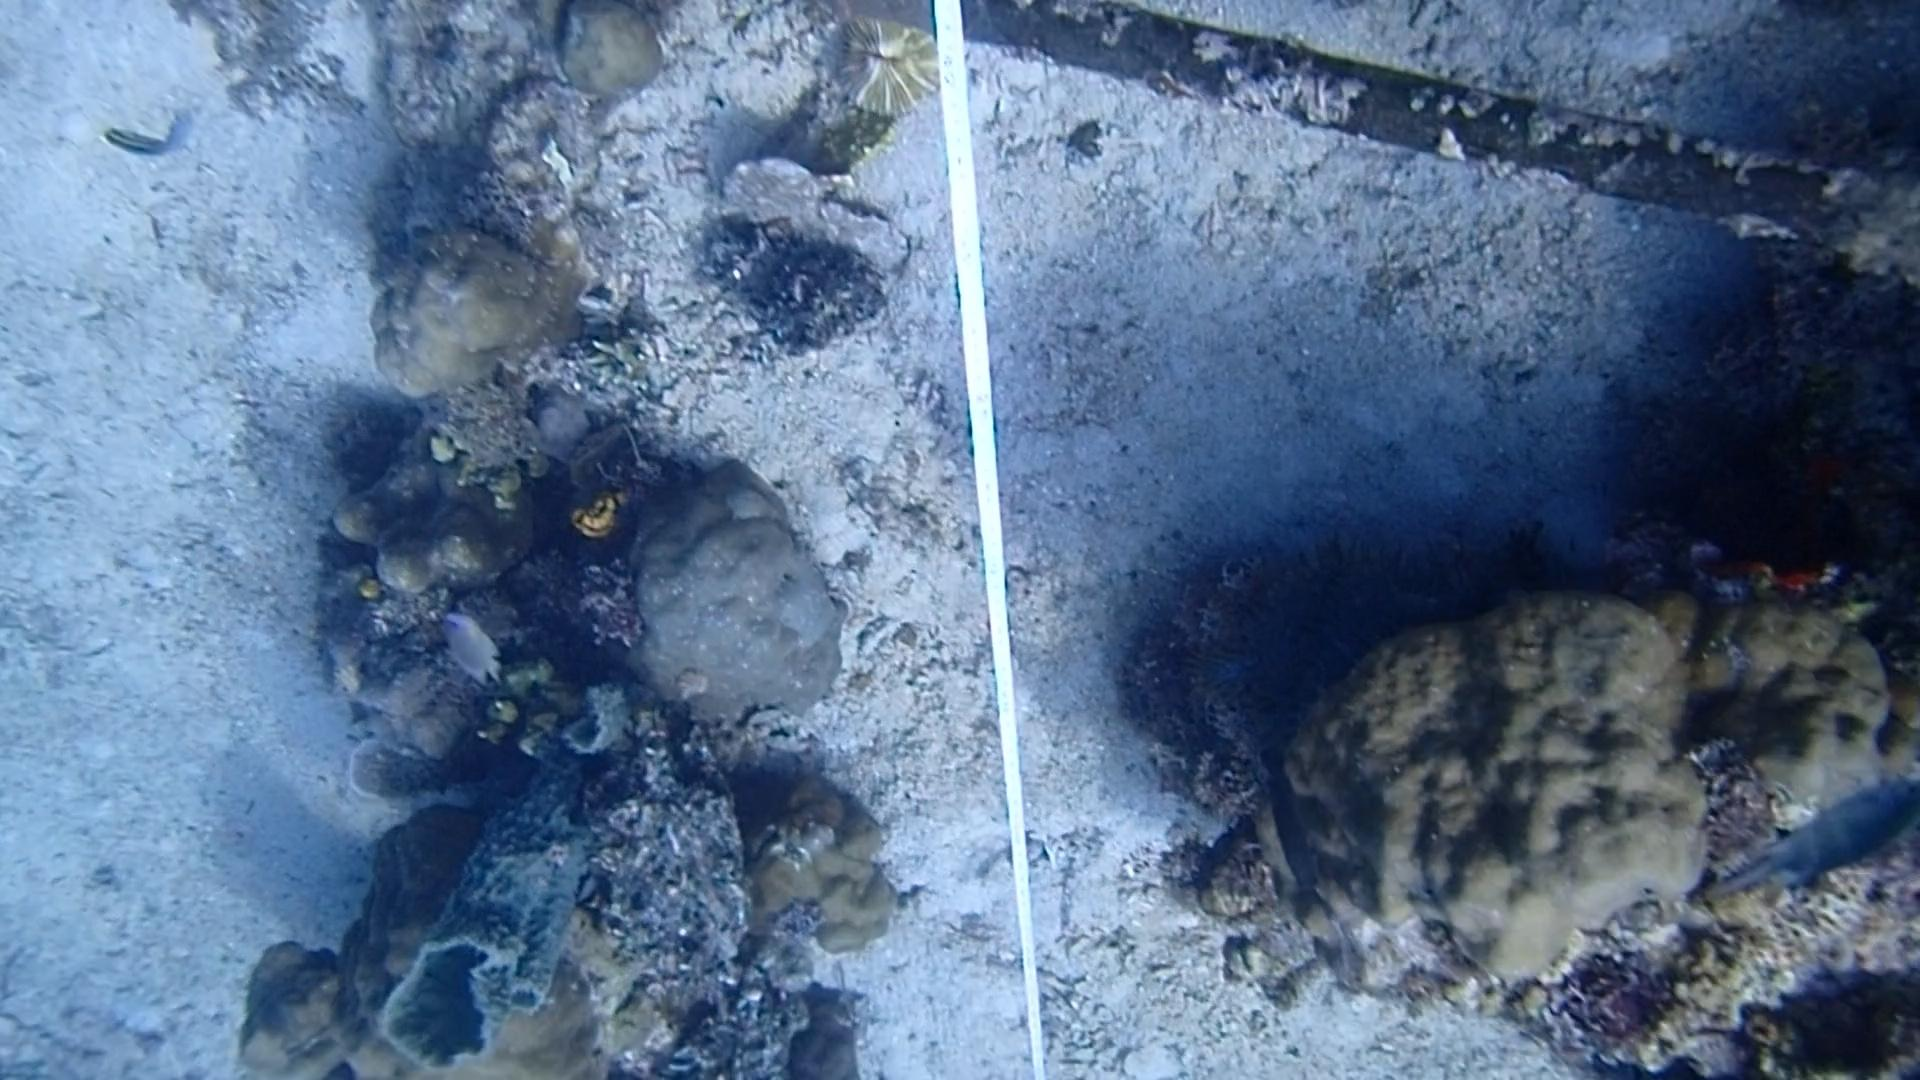Blue Fish: (1726, 766, 1920, 899)
Blue Nose Fish: (427, 608, 512, 696)
Dark Fish: (1242, 737, 1335, 890)
Striped Fish: (108, 107, 208, 181)
